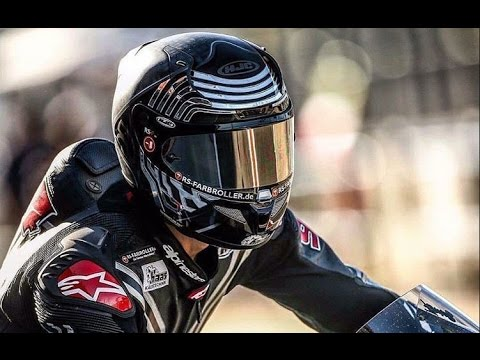with_helmet: (109, 30, 315, 251)
